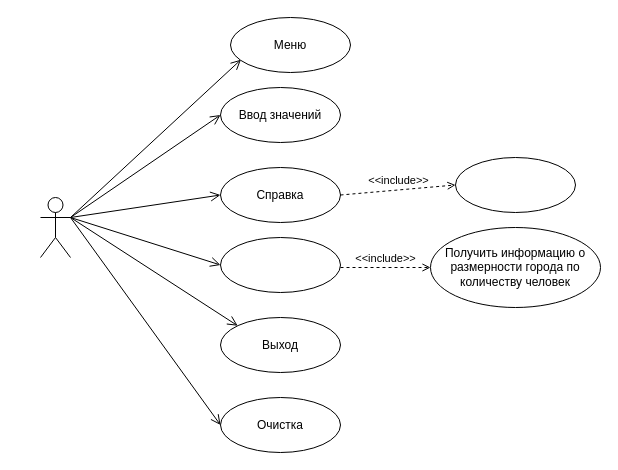
This 618x470 diagram has some shape labels left out. Here are the shapes that lost their labels. From the top down, the box of each, then its label:
(454, 156, 576, 212): Просмотр информации о разработчике
(40, 196, 70, 258): пользователь
(220, 236, 340, 292): Определение н/п
